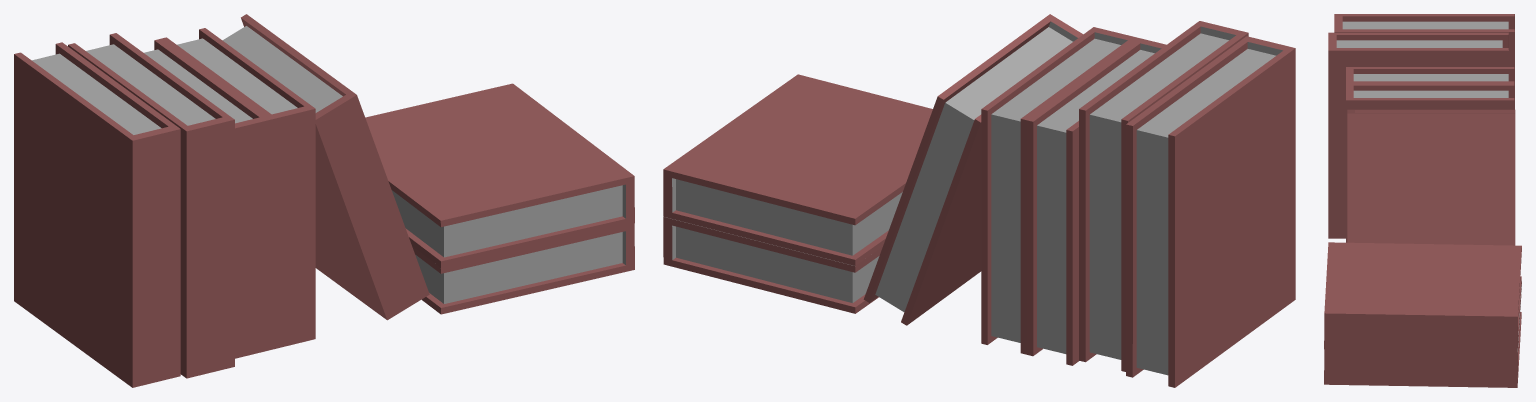
File: placeholder_stack_of_books_02.fbx
3 views of the same model, side by side, from view 1: azimuth 30°, elevation 25°; view 2: azimuth 150°, elevation 25°; view 3: azimuth 270°, elevation 25° (orthographic). The views are drawn at different scales.
Visible parts, largest first — view 1: placeholder_stack_of_books_02; view 2: placeholder_stack_of_books_02; view 3: placeholder_stack_of_books_02.
Boxes of the visible parts, left/top/right/bottom form: placeholder_stack_of_books_02: left=14, top=14, right=634, bottom=387; placeholder_stack_of_books_02: left=663, top=14, right=1295, bottom=387; placeholder_stack_of_books_02: left=1324, top=14, right=1521, bottom=387.
Bounding box in the file's own units: 0.5301 × 0.2533 × 0.2382.
